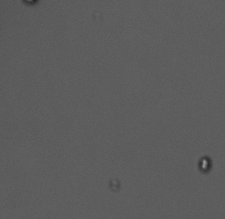Living Cell: (197, 156, 212, 172)
